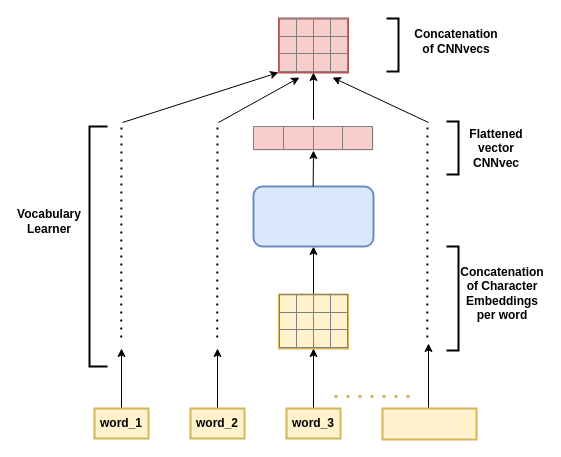
Some shapes in this 561 by 457 pixel diagram are drawn without their labels. The centre of each missing label's shape, as x and y in pixels:
partial word_n: the point at 429,423
Sequential 1D CNN Sub-Model: the point at 313,216
